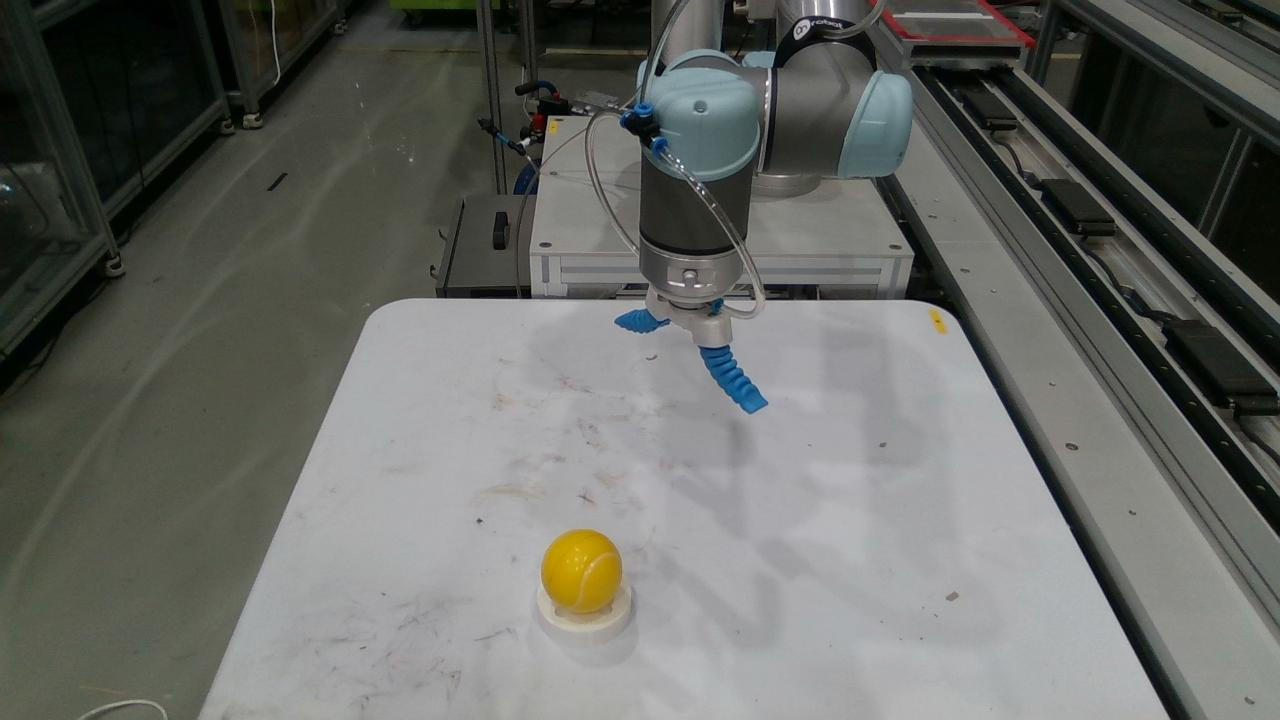UR5: (630, 0, 912, 347)
gripper_left: (614, 309, 669, 334)
gripper_right: (699, 346, 767, 414)
target: (542, 529, 623, 613), (534, 584, 631, 647)
